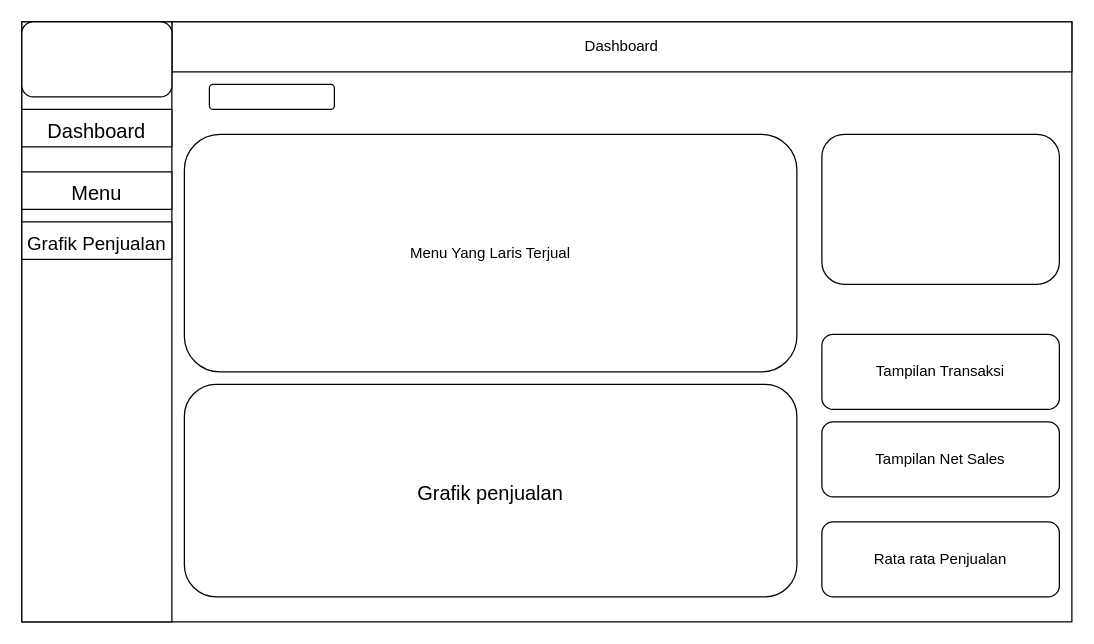
This 1094x644 diagram has some shape labels left out. The box of each missing label's shape, as (x1, y1, x2, y2) in pixels:
CUY: (21, 21, 172, 97)
Kalendar: (821, 133, 1059, 284)
Tampilkan Menu: (208, 83, 334, 109)
